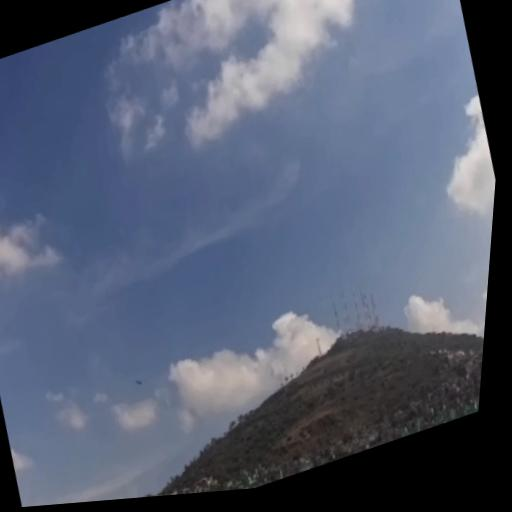drones: (133, 374, 146, 388)
